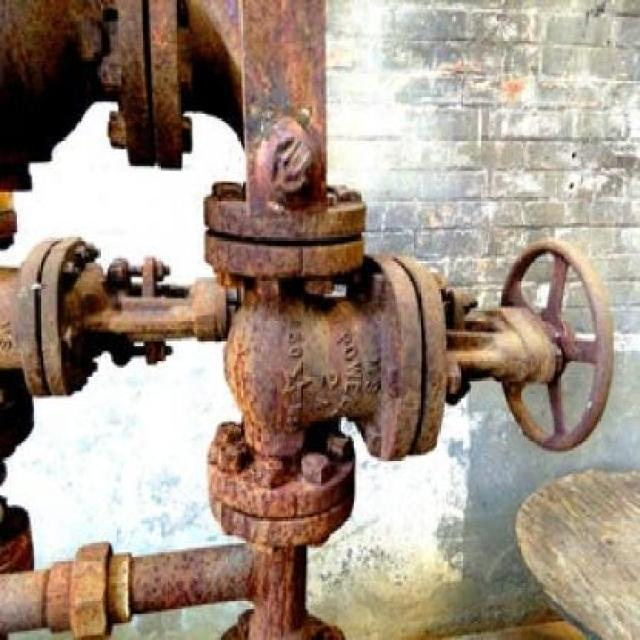corrosion: (1, 4, 616, 640)
